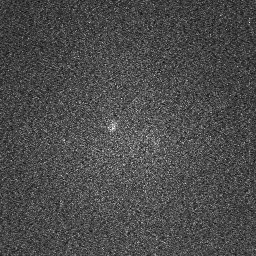dot: (107, 122, 117, 134)
